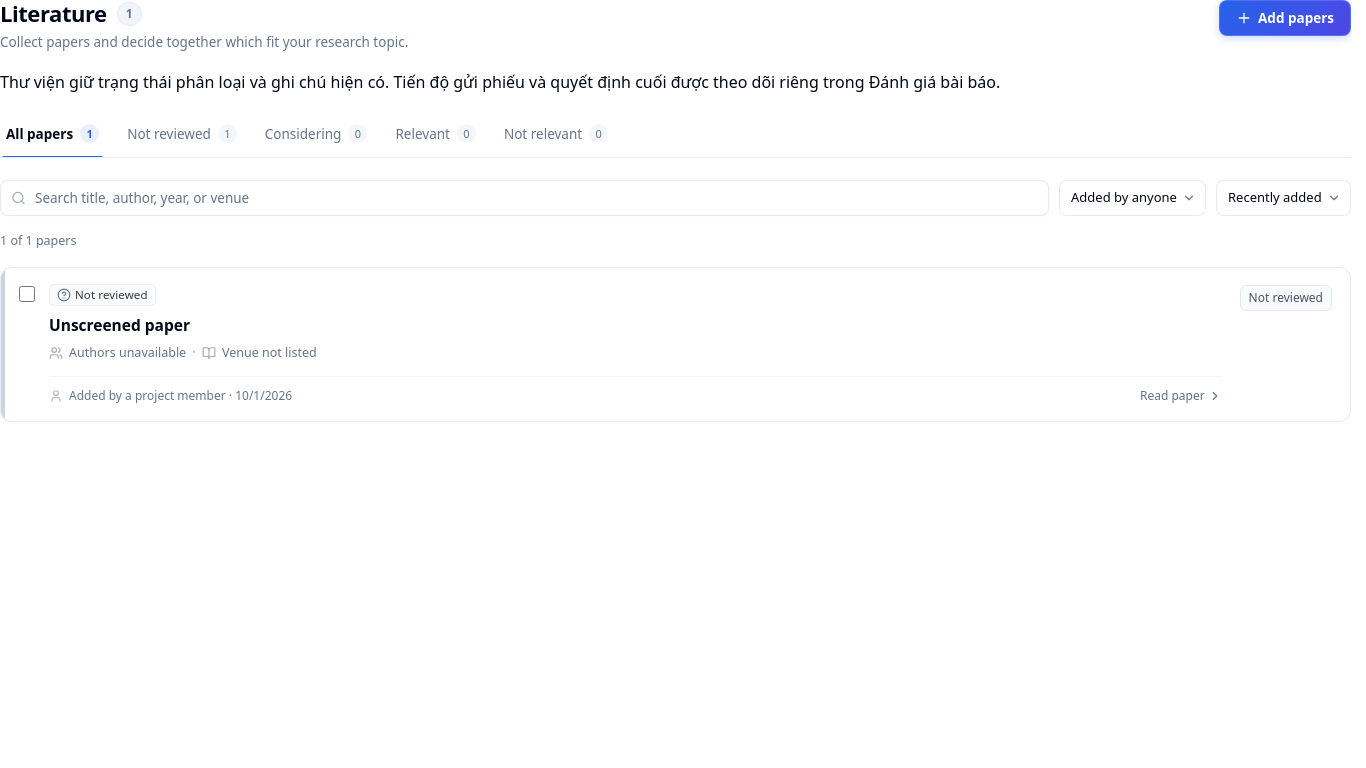
Test: routes legacy exploratory readers to independent screening without editing a shared status
Click the button with aria-label "Read Unscreened paper" at (102, 295), box 49,284 -> 1222,405
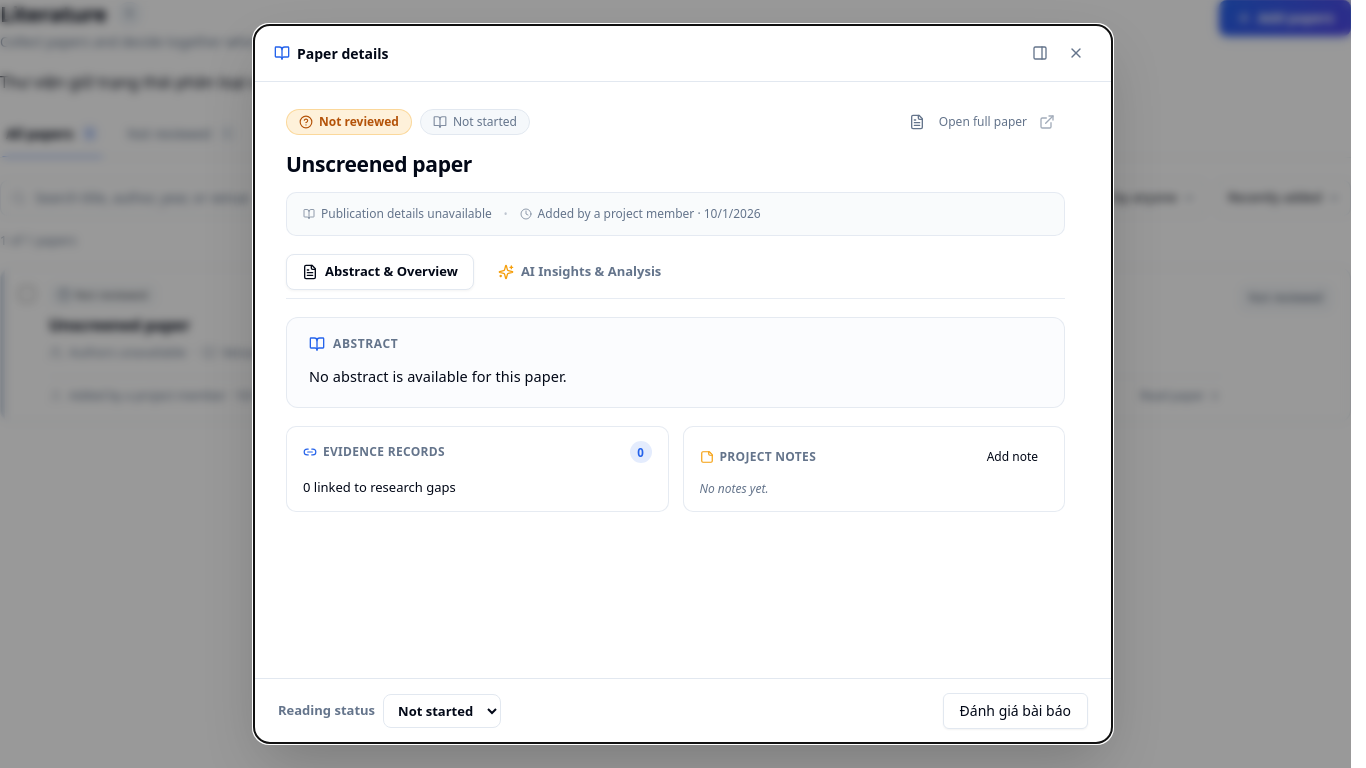
Check: the button "Đánh giá bài báo" is shown
Click the button "Đánh giá bài báo" at (1015, 711), box 943,693 -> 1088,729
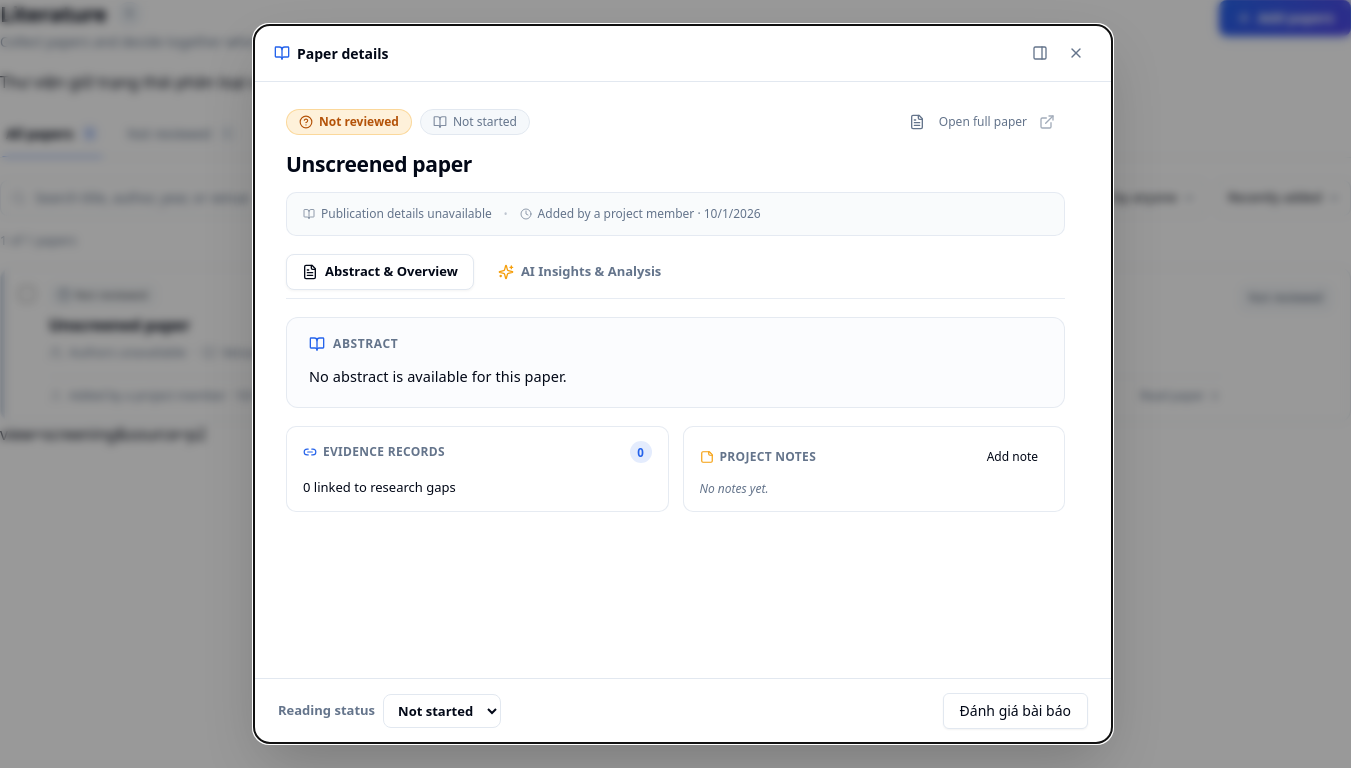
Check: the text "view=screening&source=p2" is shown, box 0,423 -> 206,445
